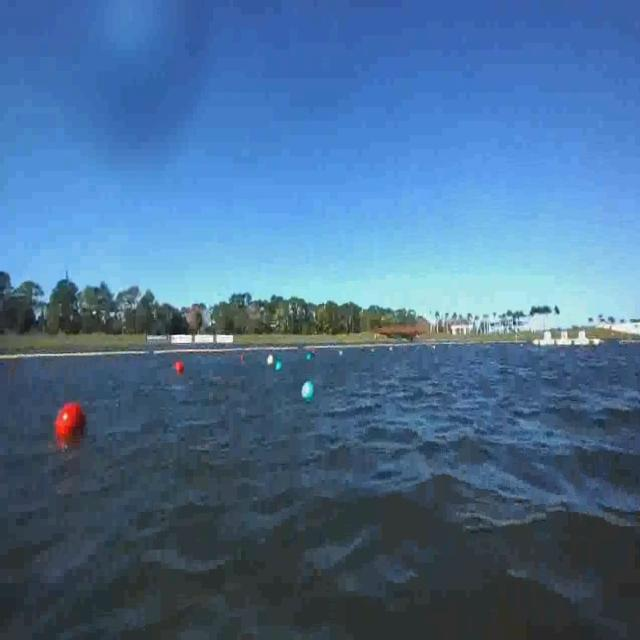green-buoy: (301, 376, 314, 401), (276, 359, 283, 372)
red-buoy: (56, 400, 92, 448), (176, 360, 184, 374)
red-column-buoy: (242, 352, 246, 363)
